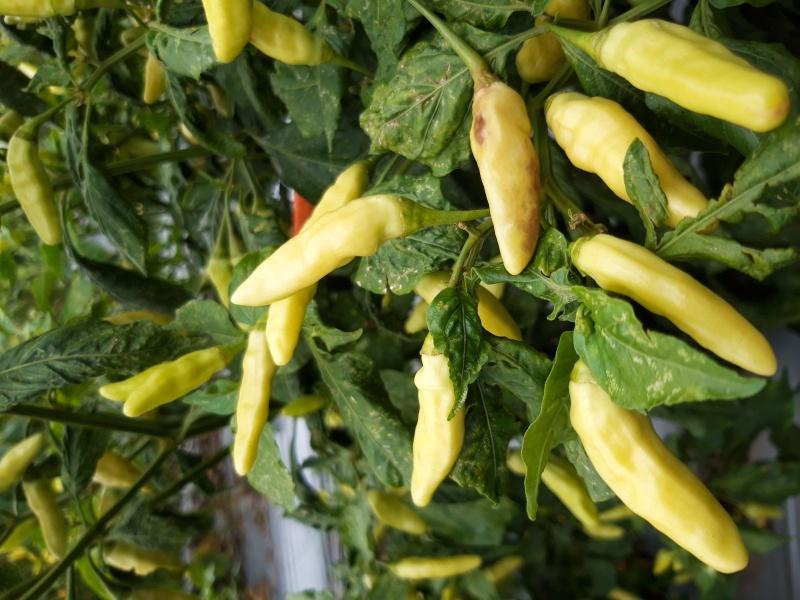cabai_normal: (567, 357, 749, 575), (575, 234, 776, 374), (544, 90, 716, 230), (603, 18, 793, 128), (268, 162, 365, 362), (233, 194, 405, 303), (410, 350, 467, 504), (415, 266, 521, 342), (122, 346, 227, 418), (234, 330, 278, 476), (10, 137, 61, 246), (249, 3, 330, 68), (19, 463, 69, 556), (364, 483, 427, 533), (204, 1, 254, 62), (391, 552, 481, 581)
lalat_buah: (469, 80, 539, 273)
